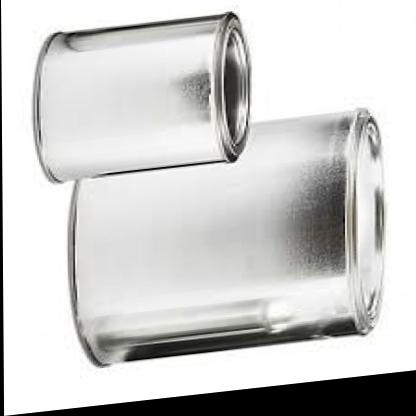trash: (34, 12, 384, 364), (34, 13, 250, 181)
